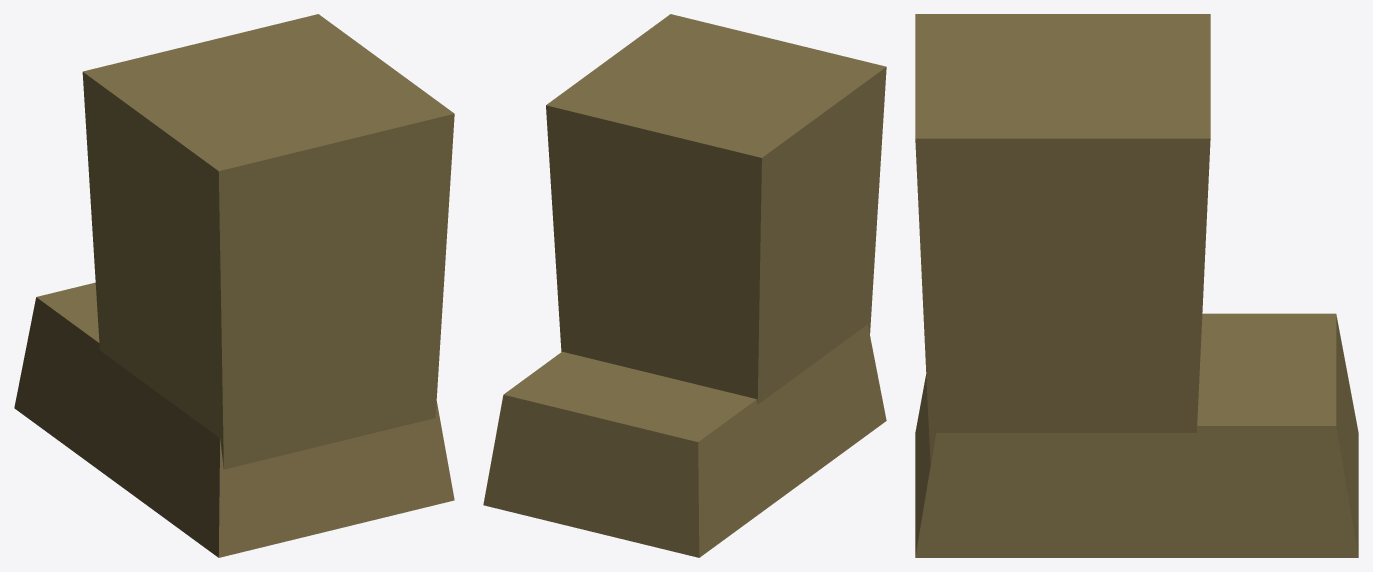
Rendered from animal_wasterat_leg.obj.
3 renders of one model, left to right at view 1: azimuth 30°, elevation 25°; view 2: azimuth 150°, elevation 25°; view 3: azimuth 270°, elevation 25°, orthographic. The views are drawn at different scales.
Visible parts, largest first — view 1: animal_wasterat_leg; view 2: animal_wasterat_leg; view 3: animal_wasterat_leg.
Boxes of the visible parts, x1,y1,x2,y2 form: animal_wasterat_leg: [14, 14, 454, 557]; animal_wasterat_leg: [483, 14, 886, 557]; animal_wasterat_leg: [915, 14, 1358, 557].
Size of the model in its own units: 0.0632 by 0.099 by 0.0949.
